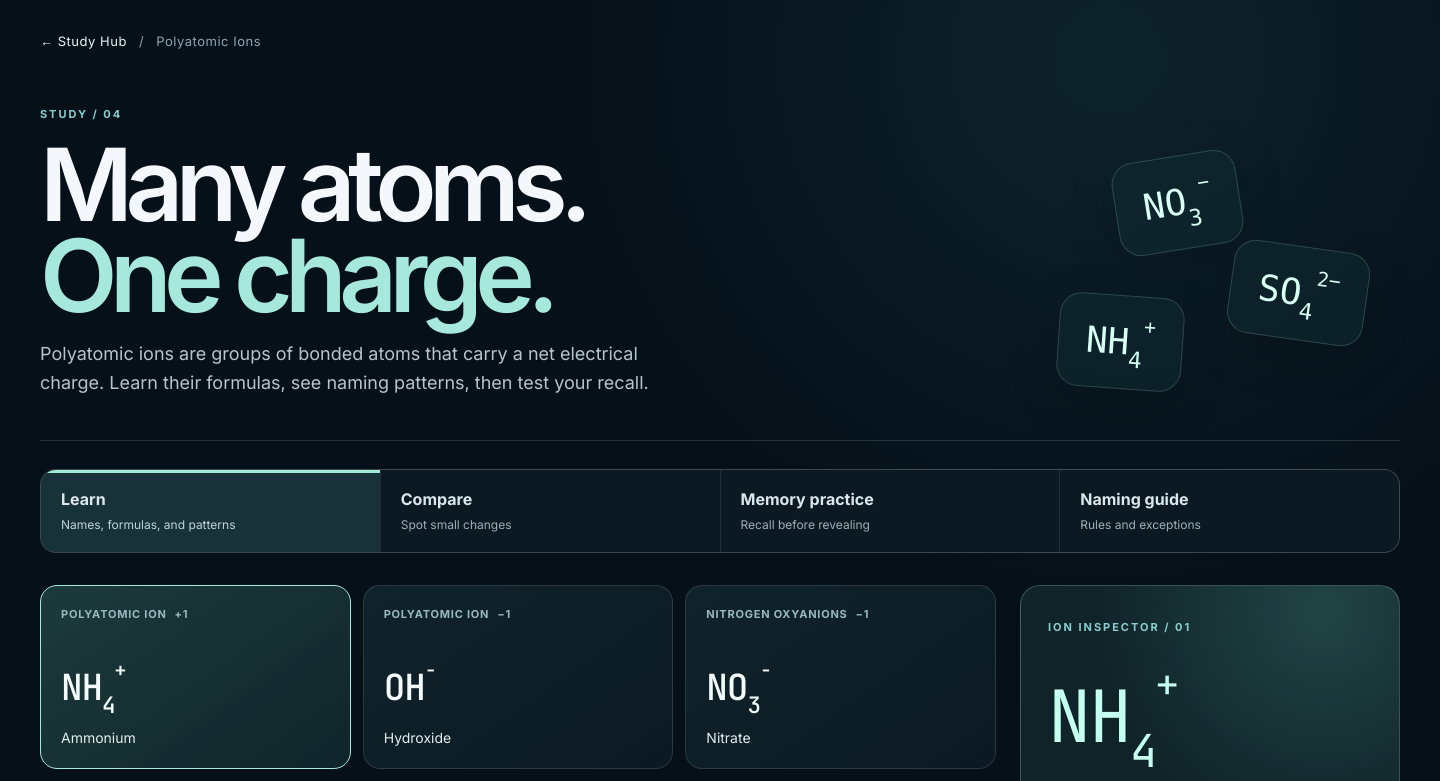
Test case: polyatomic ion practice › hides and reveals a field, then records recall locally
Click the button "Memory practice Recall before revealing". click: (807, 499)
box: [720,470,1059,552]
(page scrolled)
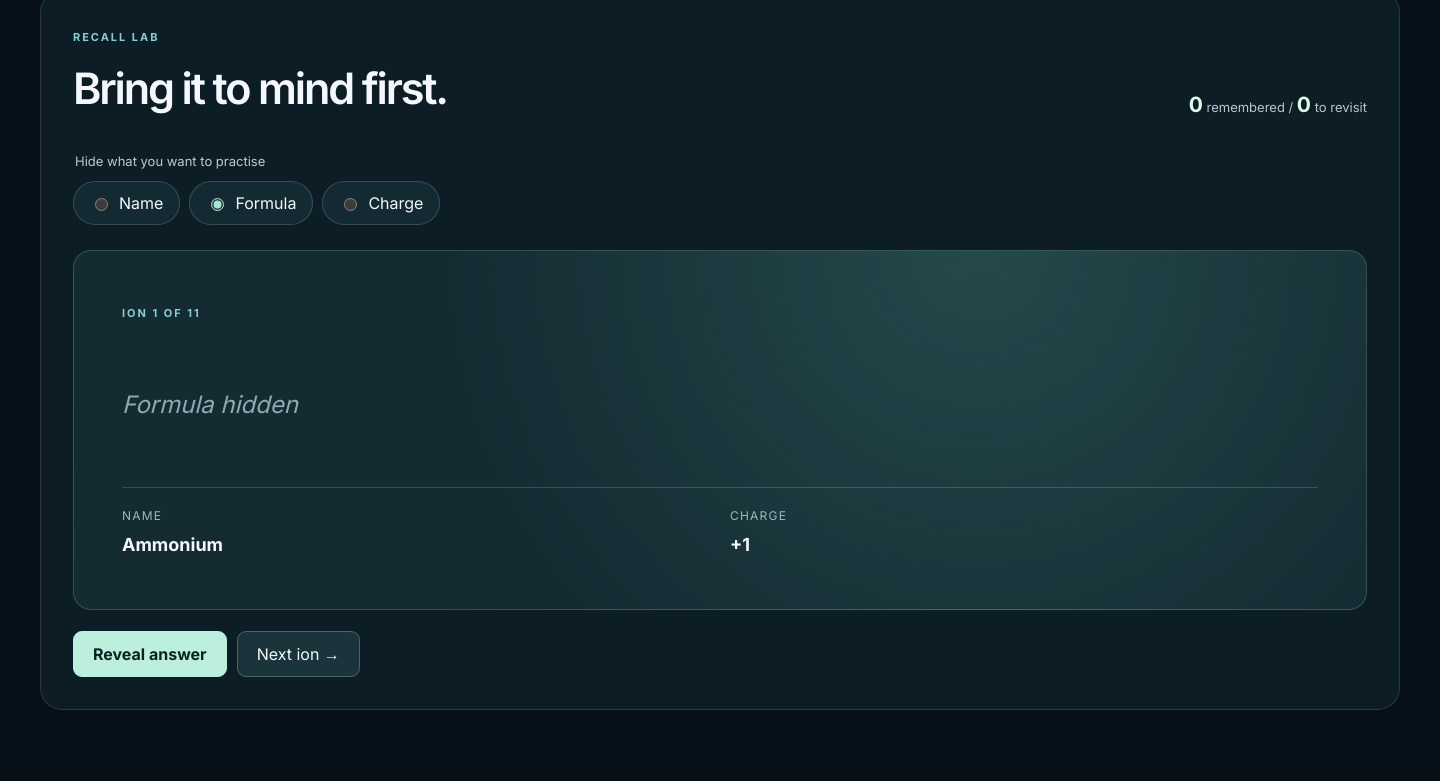
Result: the text "Formula hidden" is shown at [122,387,298,423]
Click the button "Reveal answer". click: (150, 654)
box: [73,631,227,677]
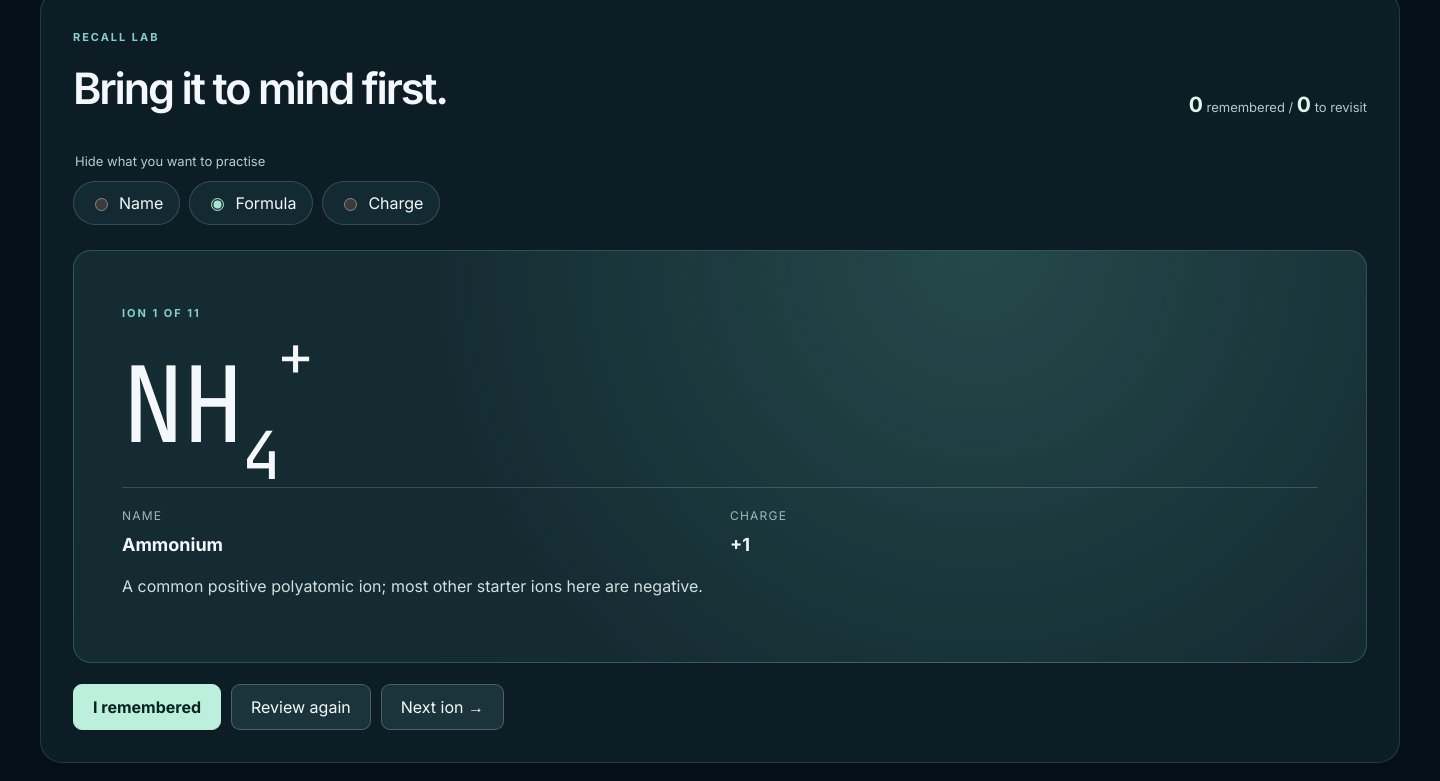
Result: the text "Formula hidden" is gone
Click the button "I remembered". click: (147, 707)
box: [73,684,221,730]
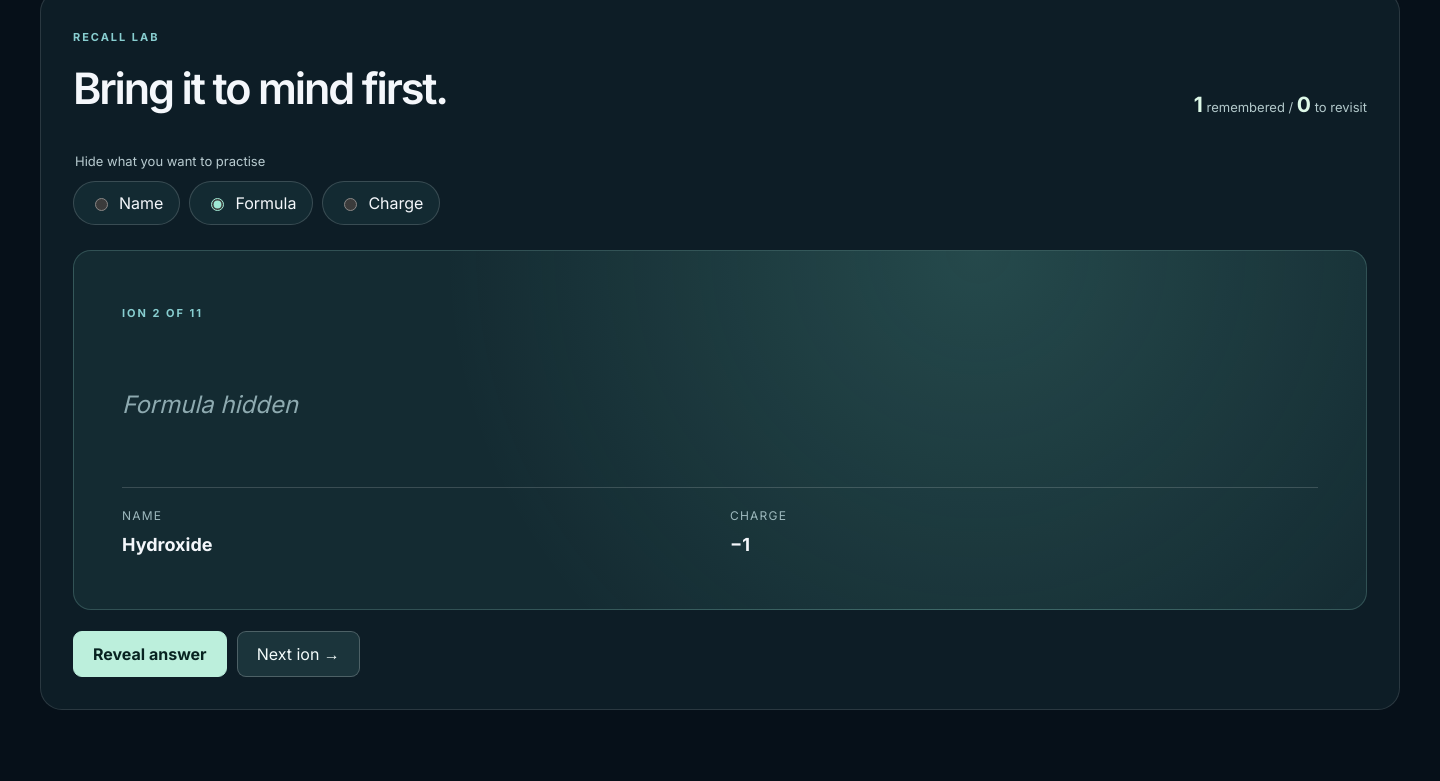
Result: the text "Hydroxide" is shown at [122,534,212,555]
